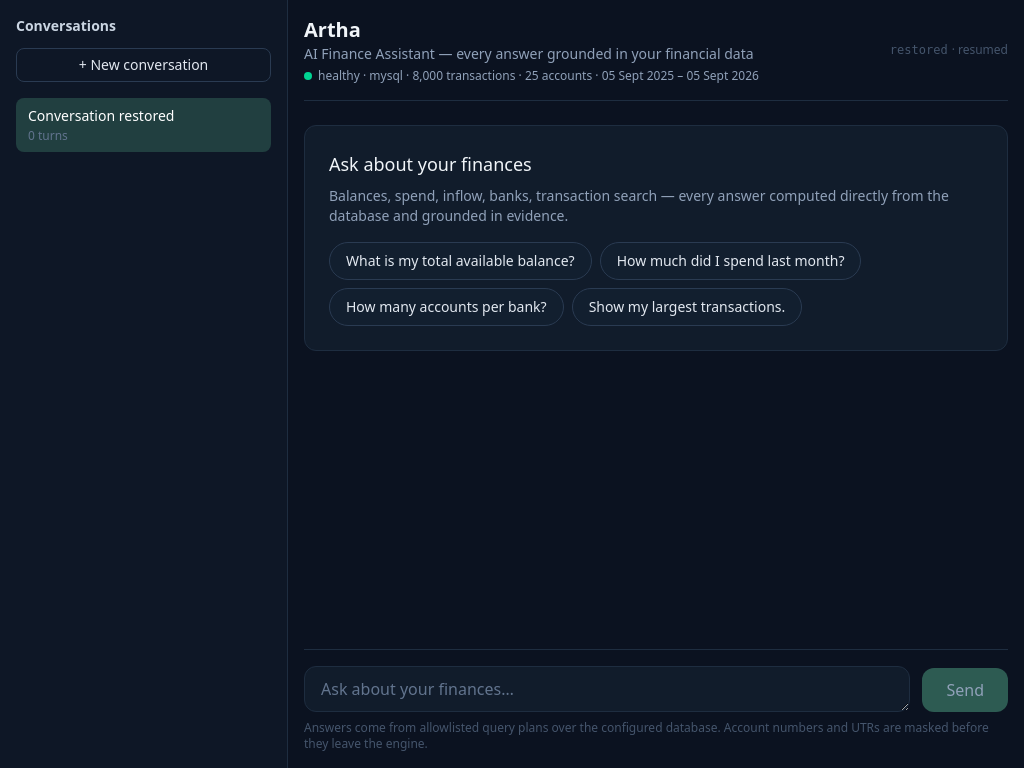
restores, sends, persists, and clears the conversation id
Expected: the text "· resumed" is shown, [952,41,1008,58]
Expected: the button "+ New conversation" is enabled, [16,48,271,82]
Type "What about July?" into the text box named "Ask a question" at (607, 689), box [304,666,910,712]
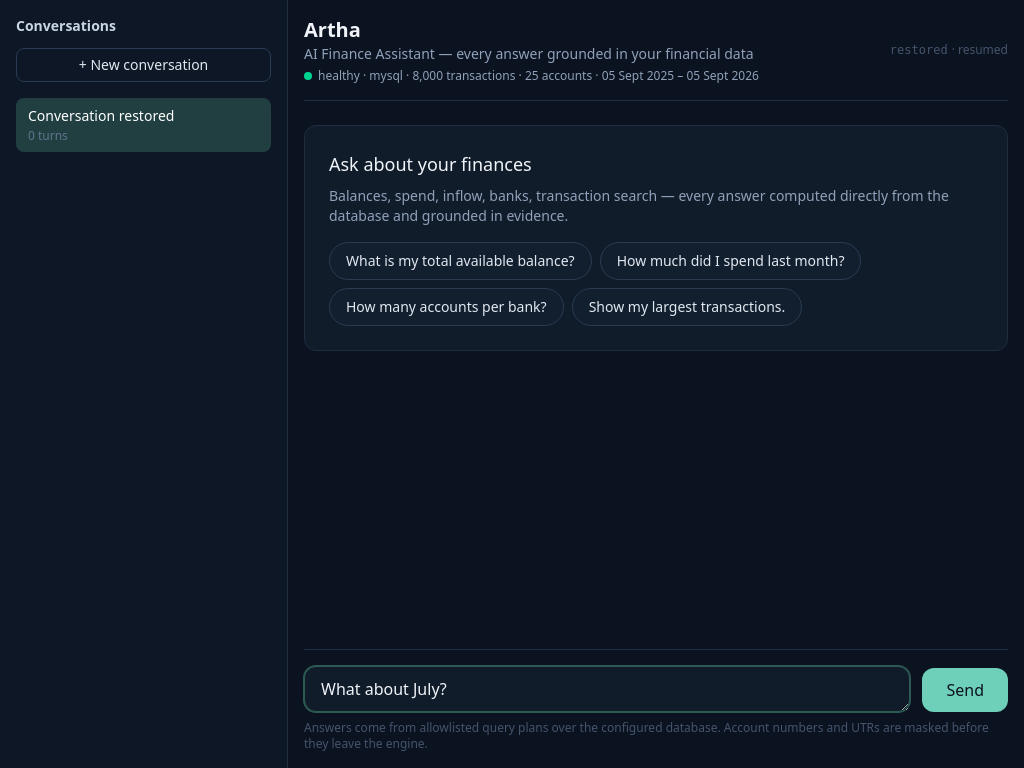
Click the button "Send" at (965, 690), box [922,668,1008,712]
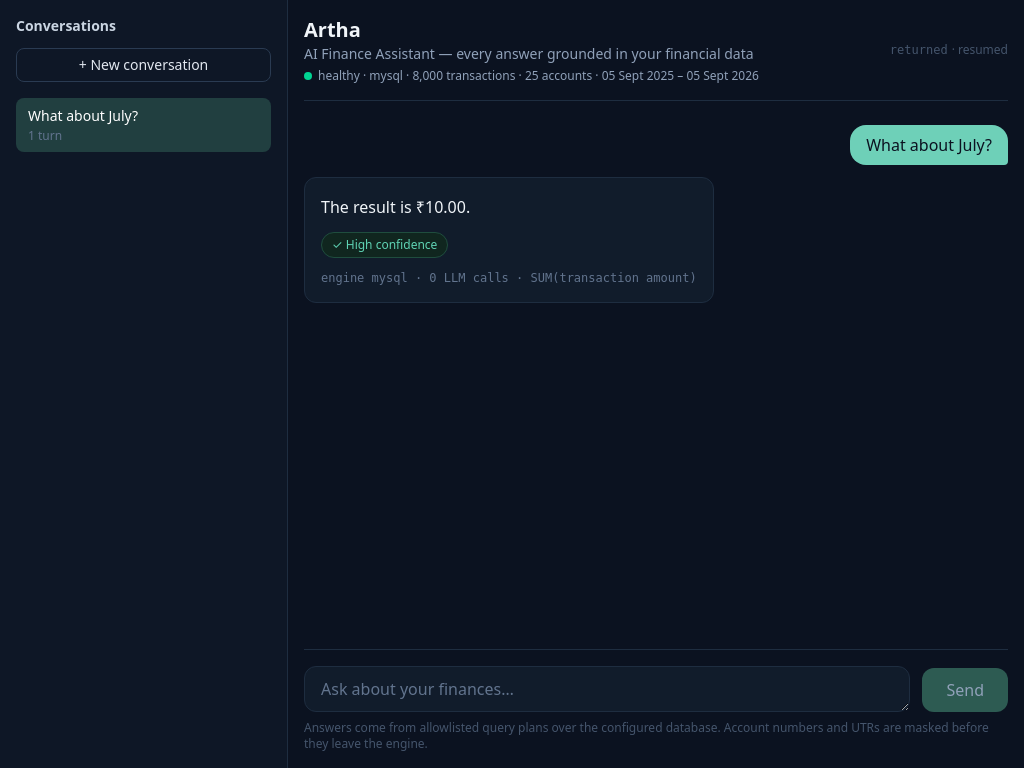
Now the text "The result is ₹10.00." is shown, box [321,196,470,218]
Click the button "+ New conversation" at (144, 65), box [16,48,271,82]
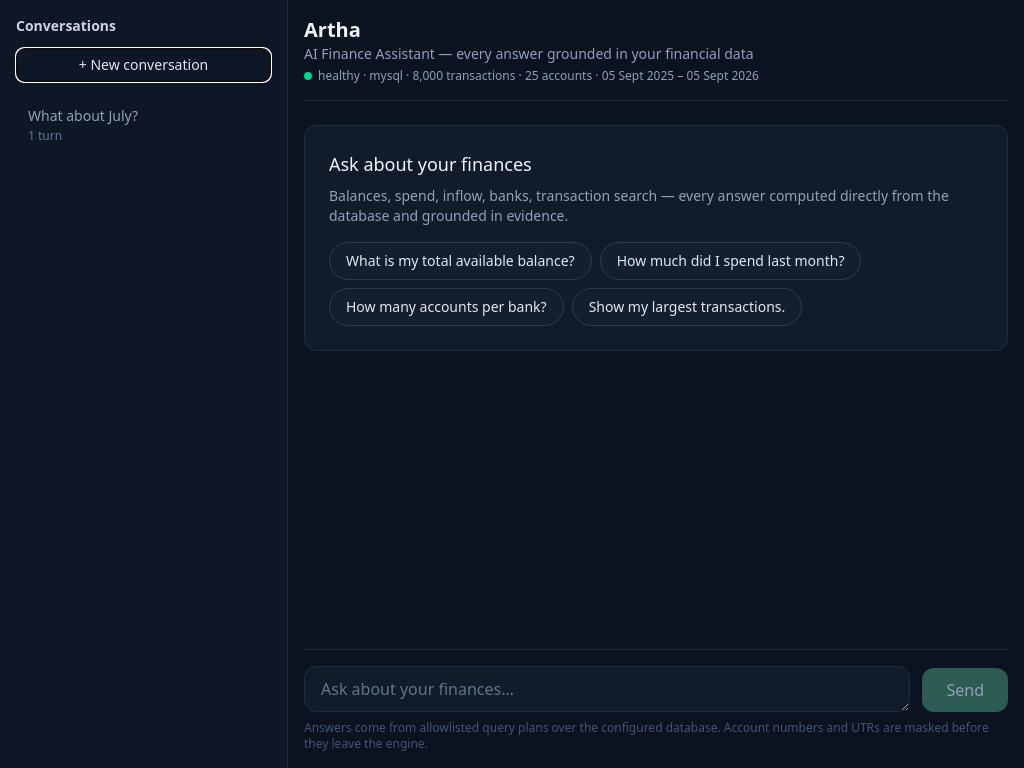
Now the text "resumed" is gone
